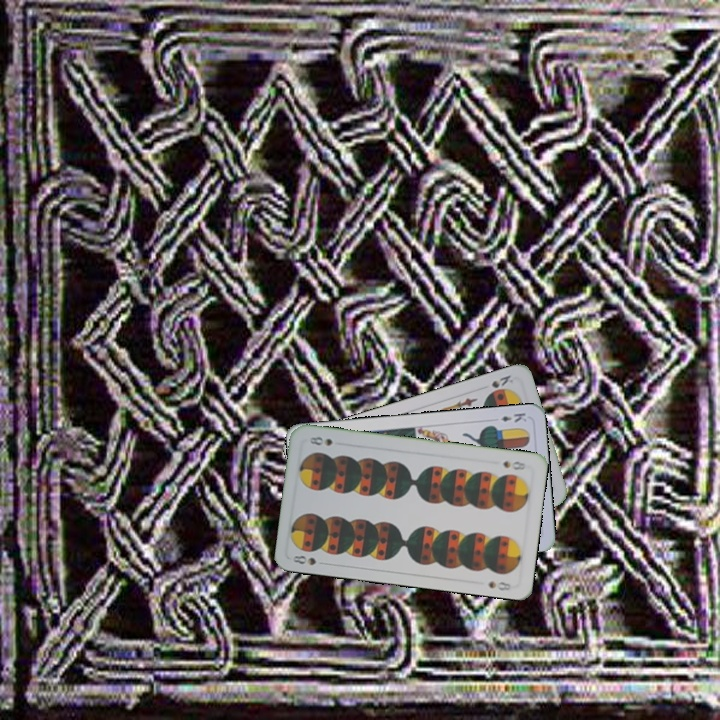EK: (497, 409, 529, 425)
S8: (289, 551, 329, 568), (499, 457, 529, 473)
SK: (487, 371, 516, 390)
